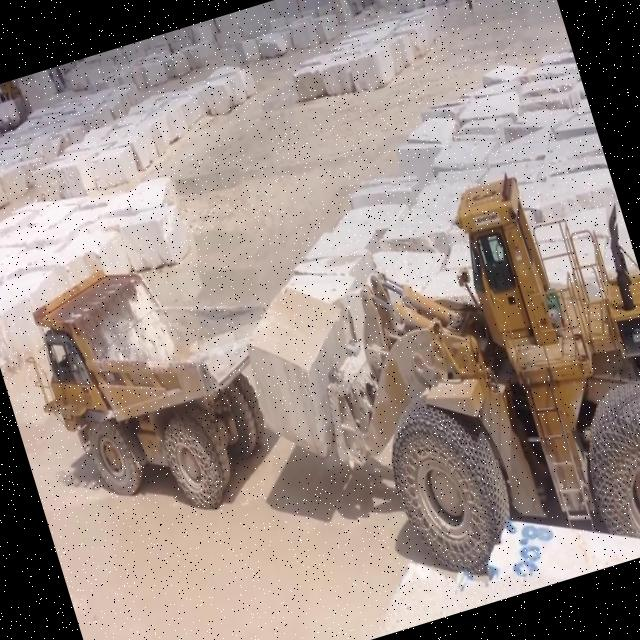Dump Truck: (2, 228, 293, 552)
Loader: (271, 144, 640, 633)
